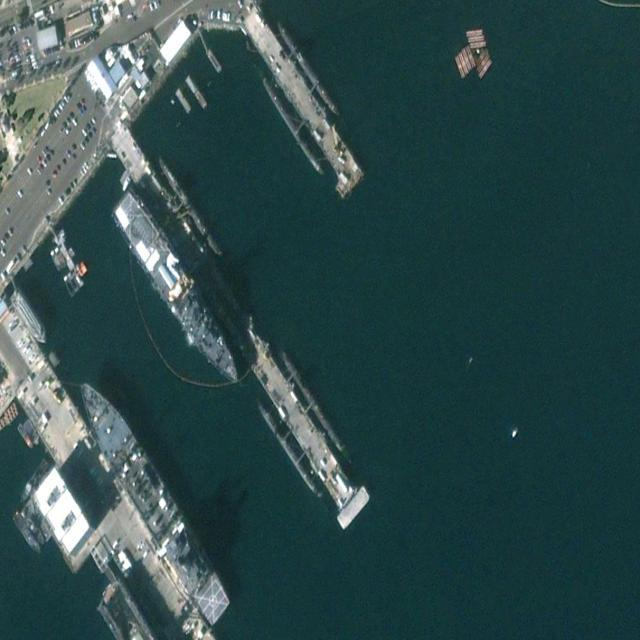Commander: (70, 366, 235, 630)
Landing: (109, 181, 250, 397)
Submarine: (278, 342, 356, 466), (155, 146, 227, 260), (258, 70, 331, 180), (274, 12, 344, 122), (257, 397, 326, 503)
